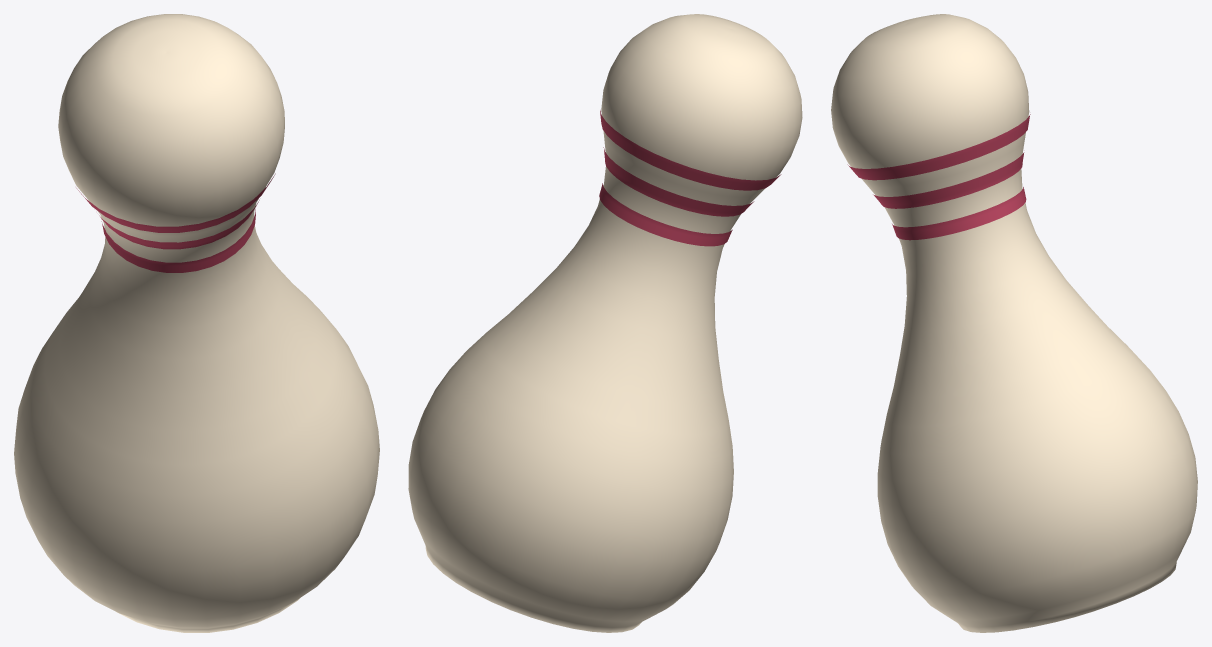
The model's file is pinpink.glb.
3 renders of one model, left to right at view 1: azimuth 30°, elevation 25°; view 2: azimuth 150°, elevation 25°; view 3: azimuth 270°, elevation 25°, orthographic. The views are drawn at different scales.
Visible parts, largest first — view 1: pinpink; view 2: pinpink; view 3: pinpink.
Part boxes in pixels (x1,y1,x2,y2): pinpink: [14, 14, 379, 632]; pinpink: [408, 14, 802, 632]; pinpink: [831, 14, 1197, 632].
Size of the model in its own units: 0.5392 by 0.9624 by 0.571.
